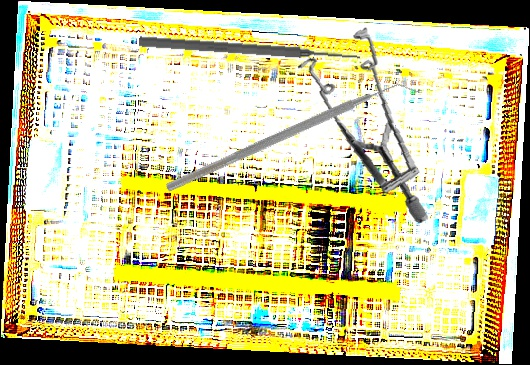Chopper: (164, 2, 422, 278)
Pusher: (138, 34, 361, 65)
Speculum: (283, 20, 448, 224)
